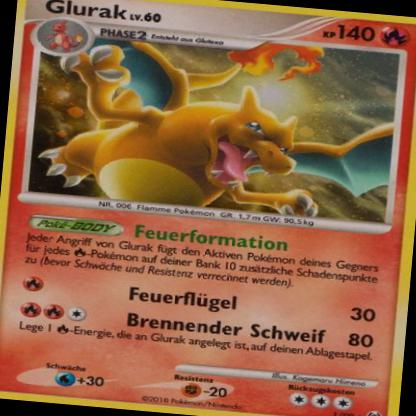Charizard: (82, 41, 397, 223)
